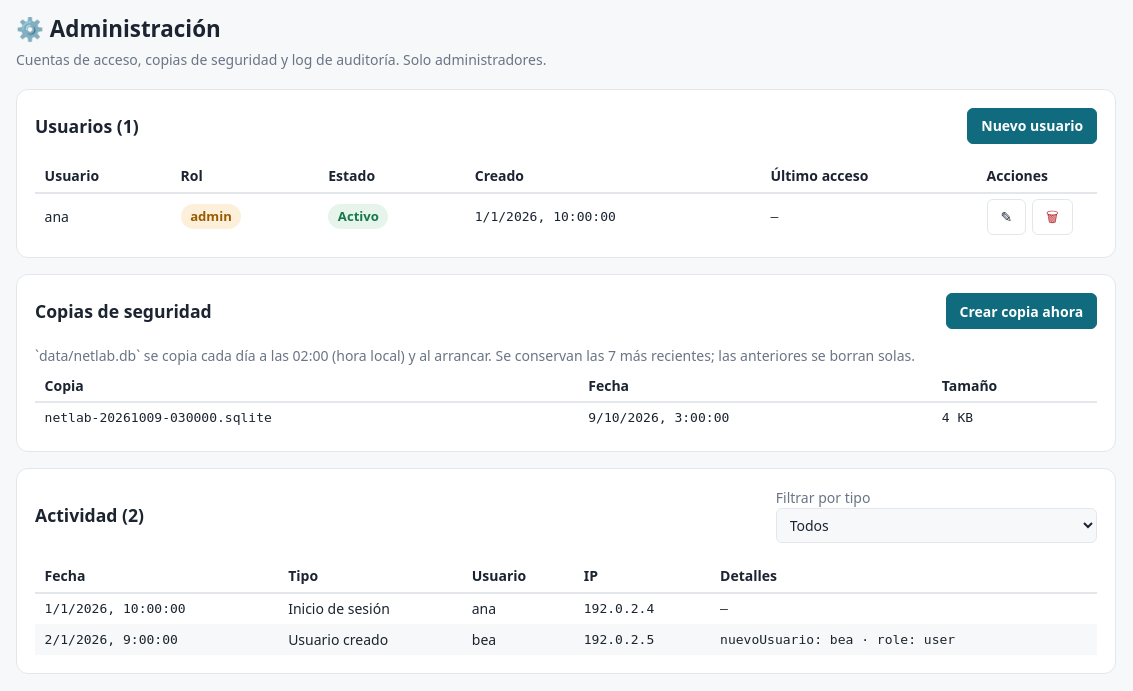
Test case: actividad › el filtro por tipo se pide al servidor, que es donde está el filtro
Select "Usuario creado" in the dropdown named "Filtrar auditoría por tipo" at (936, 526), box [776,508,1097,543]
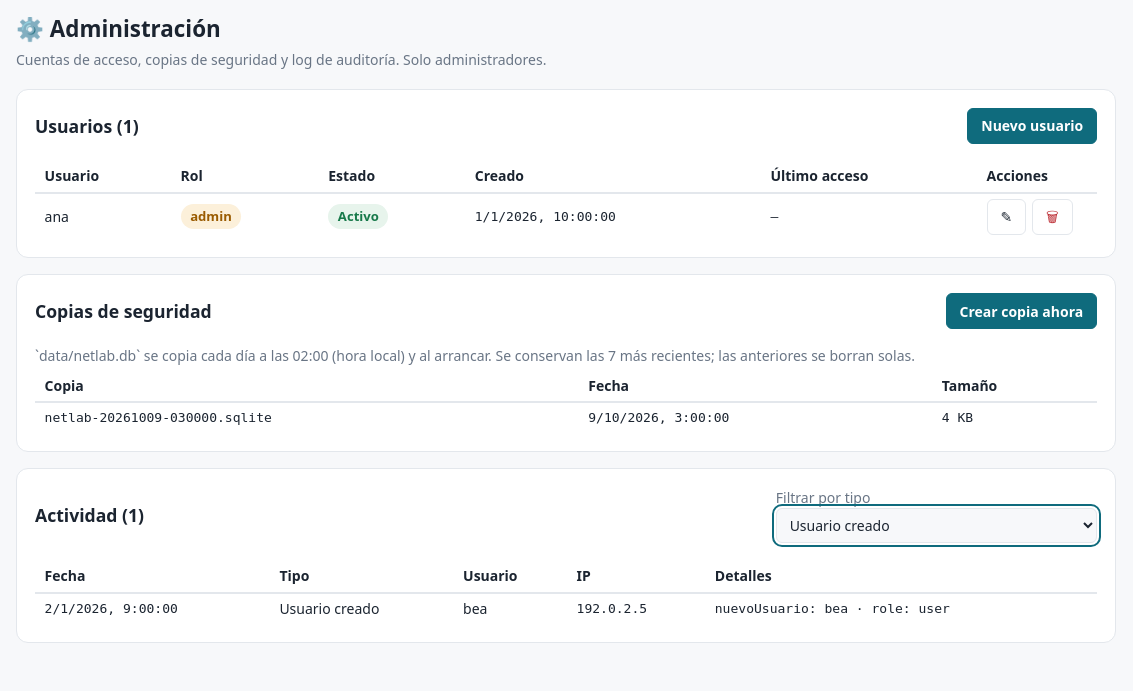
Expected: the text "bea" is shown, [454,593,567,624]
Now the text "Inicio de sesión" is gone
